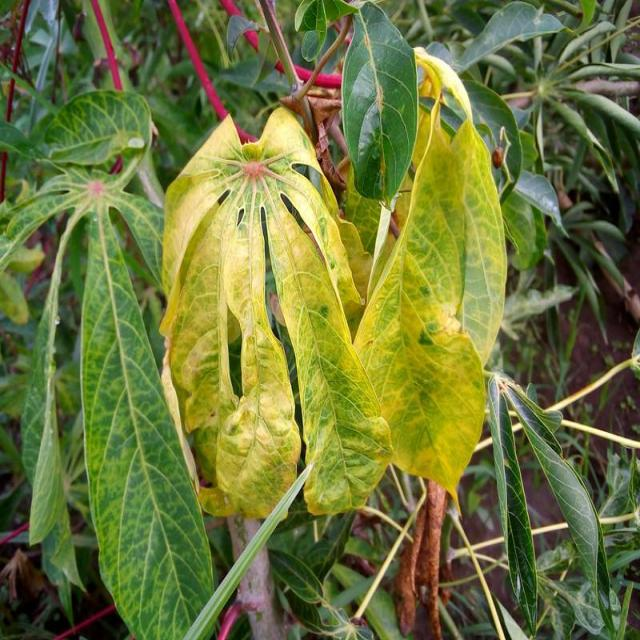cassava leaf: (158, 104, 392, 522), (350, 45, 507, 516), (78, 197, 215, 638), (340, 0, 418, 206)
